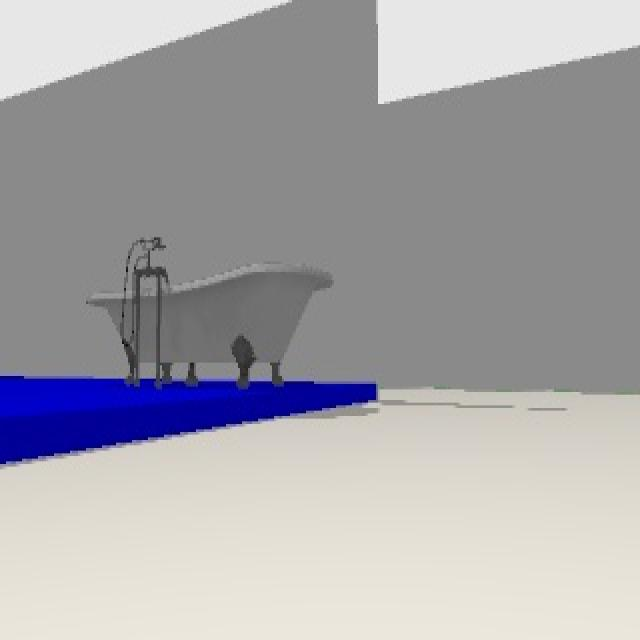bathtub: (86, 232, 338, 380)
